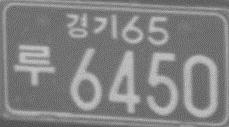0: (182, 53, 219, 119)
4: (107, 50, 140, 114)
5: (144, 50, 180, 117), (146, 15, 169, 46)
6: (69, 47, 103, 112), (121, 14, 143, 44)
경기_O: (65, 11, 119, 40)
루: (12, 43, 55, 87)
